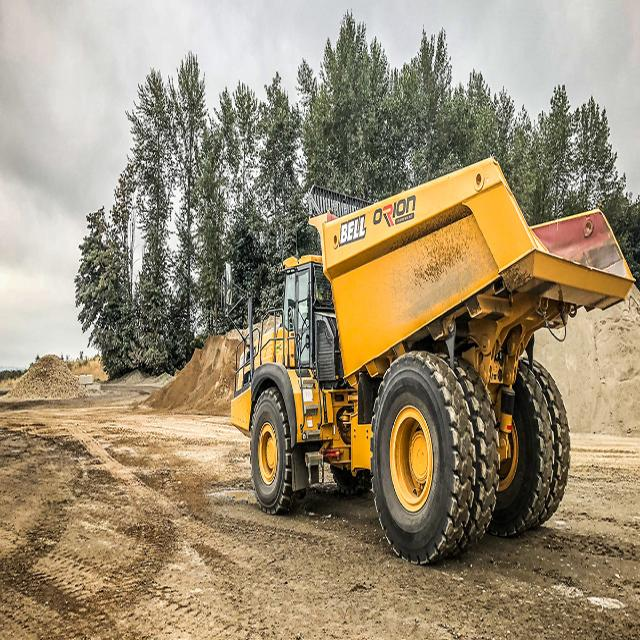dump_truck: (223, 161, 634, 560)
